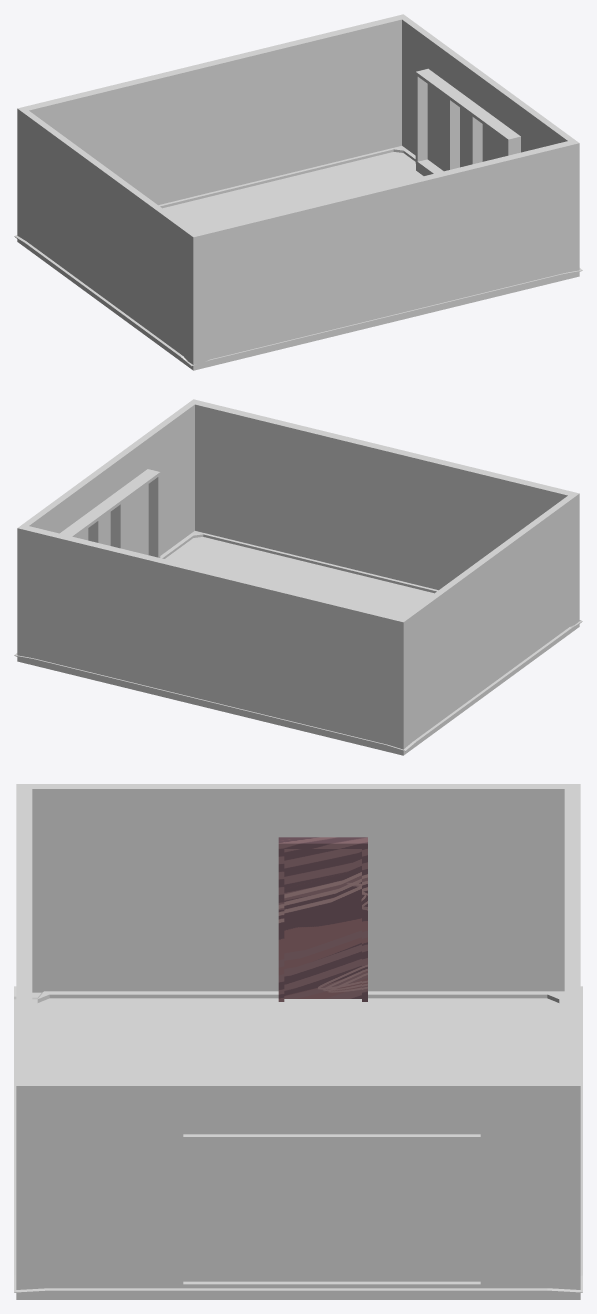
Rendered from Room_Collection.fbx.
The picture shows the model from 3 angles, top to bottom: view 1: azimuth 30°, elevation 25°; view 2: azimuth 150°, elevation 25°; view 3: azimuth 270°, elevation 25°; orthographic projection. The views are drawn at different scales.
Parts seen in each view (by area): view 1: walls, floor, windowframes, floor details, windows; view 2: walls, floor, floor details, windowframes, windows; view 3: walls, floor, doors, floor details.
Boxes of the visible parts, <box> form: walls: <box>17,14,579,366</box>; floor: <box>17,152,579,370</box>; windowframes: <box>415,69,520,175</box>; floor details: <box>14,146,582,366</box>; windows: <box>427,84,506,171</box>; walls: <box>17,399,579,750</box>; floor: <box>17,537,579,755</box>; floor details: <box>14,531,582,751</box>; windowframes: <box>60,469,160,557</box>; windows: <box>76,484,148,555</box>; walls: <box>16,784,580,1294</box>; floor: <box>16,998,580,1299</box>; doors: <box>278,837,367,1001</box>; floor details: <box>14,986,582,1294</box>.
Size of the model in its own units: 1479 by 480 by 1158.
